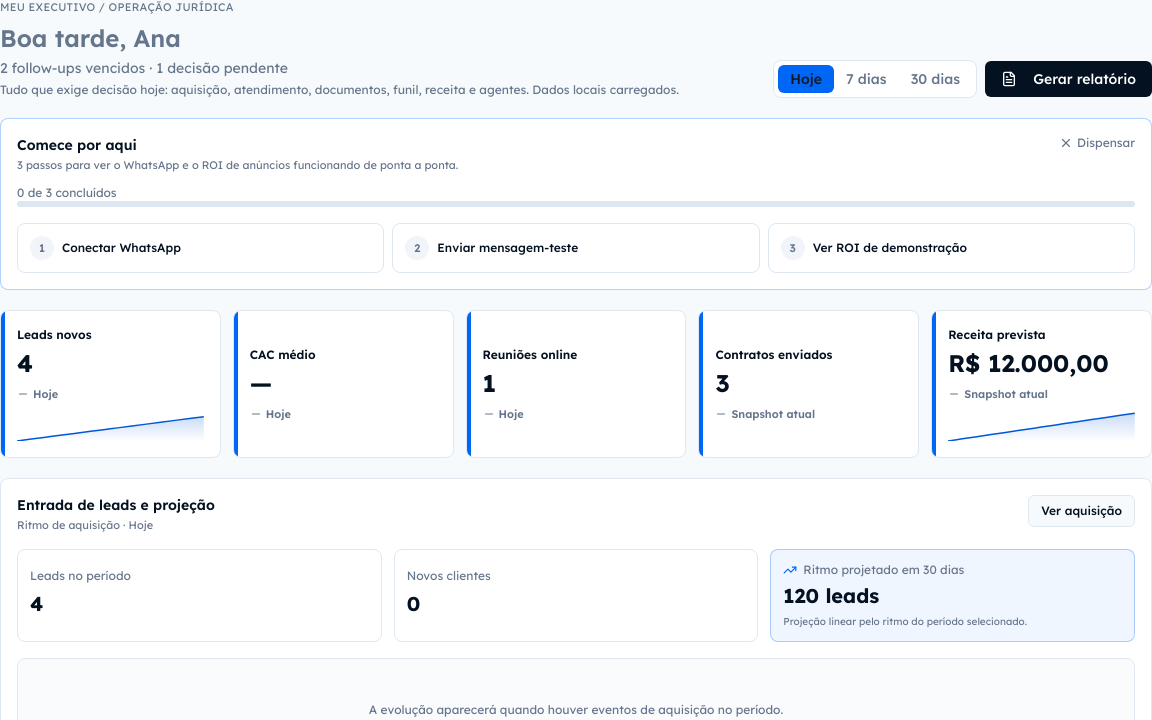
it: HomePage › generates a branded executive report HTML and triggers window.print() without dropping CSV/JSON
Click the button "Gerar relatório".
click(1069, 79)  # box [985,61,1151,97]
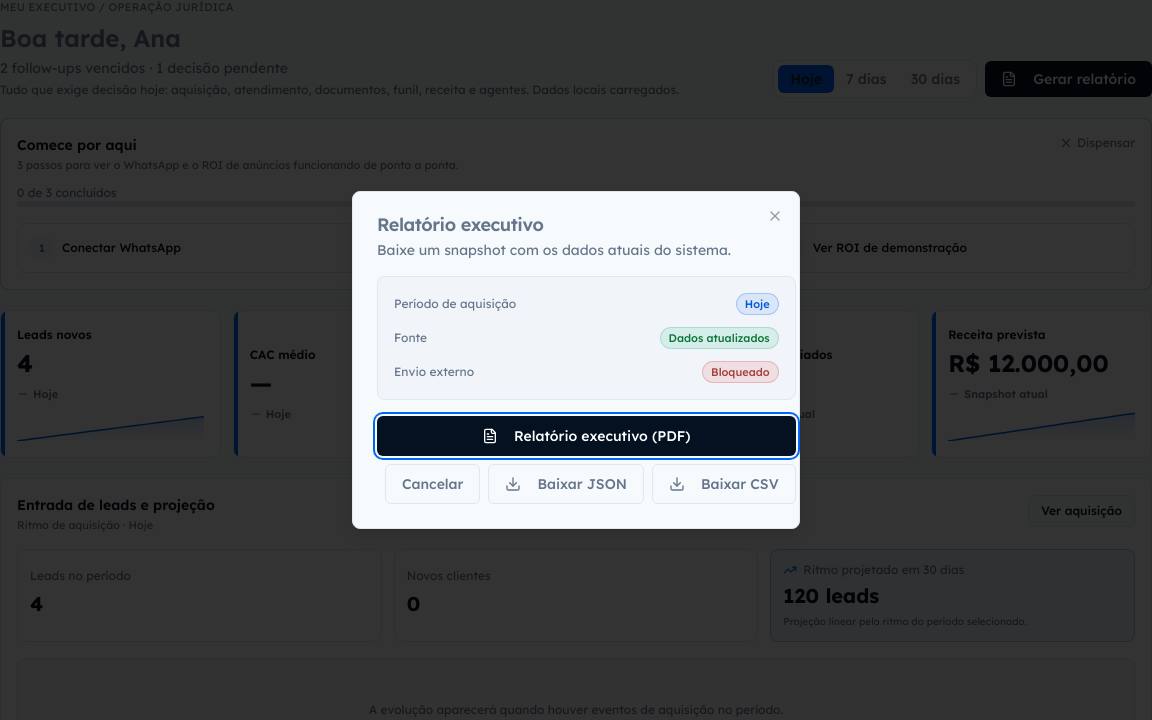
Result: the button "Baixar JSON" is shown at [488,464,644,504]
Result: the button "Baixar CSV" is shown at [652,464,796,504]
Click the button "Relatório executivo (PDF)".
click(586, 436)  # box [377,416,796,456]
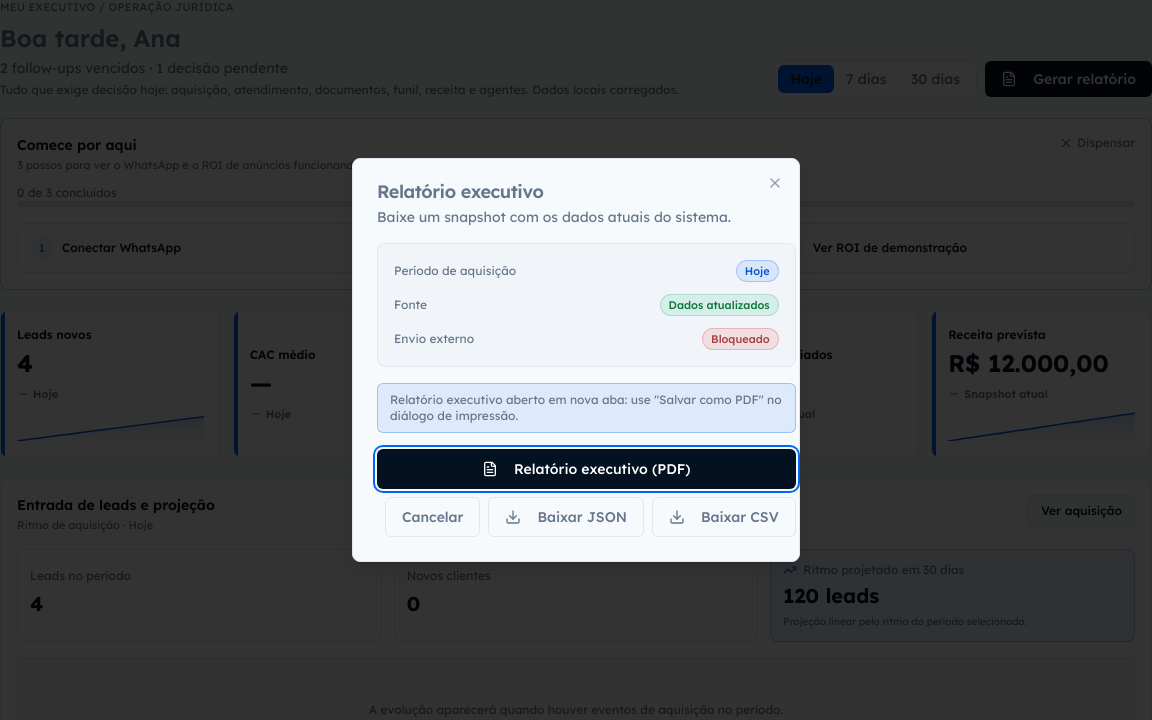
Result: the text "Salvar como PDF" is shown at [390,392,782,423]
